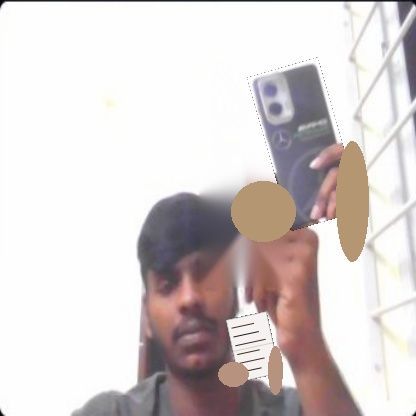cell_phone: (247, 57, 362, 231)
cheat_chit: (226, 311, 280, 382)
